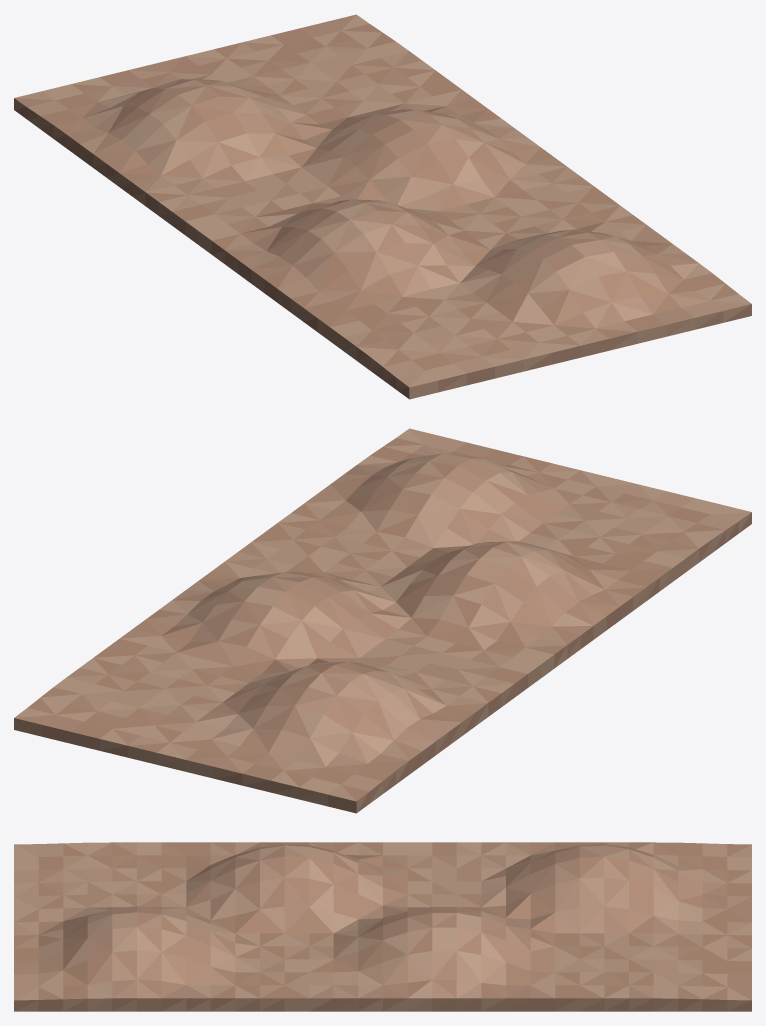
The model's file is 06_cross_axle.glb.
The picture shows the model from 3 angles, top to bottom: view 1: azimuth 30°, elevation 25°; view 2: azimuth 150°, elevation 25°; view 3: azimuth 270°, elevation 25°; orthographic projection. The views are drawn at different scales.
Visible parts, largest first — view 1: ObstacleMesh; view 2: ObstacleMesh; view 3: ObstacleMesh.
Boxes of the visible parts, bbox=[...] form: ObstacleMesh: bbox=[14, 14, 751, 399]; ObstacleMesh: bbox=[14, 428, 751, 813]; ObstacleMesh: bbox=[14, 842, 751, 1011].
Size of the model in its own units: 6 by 0.9141 by 12.
